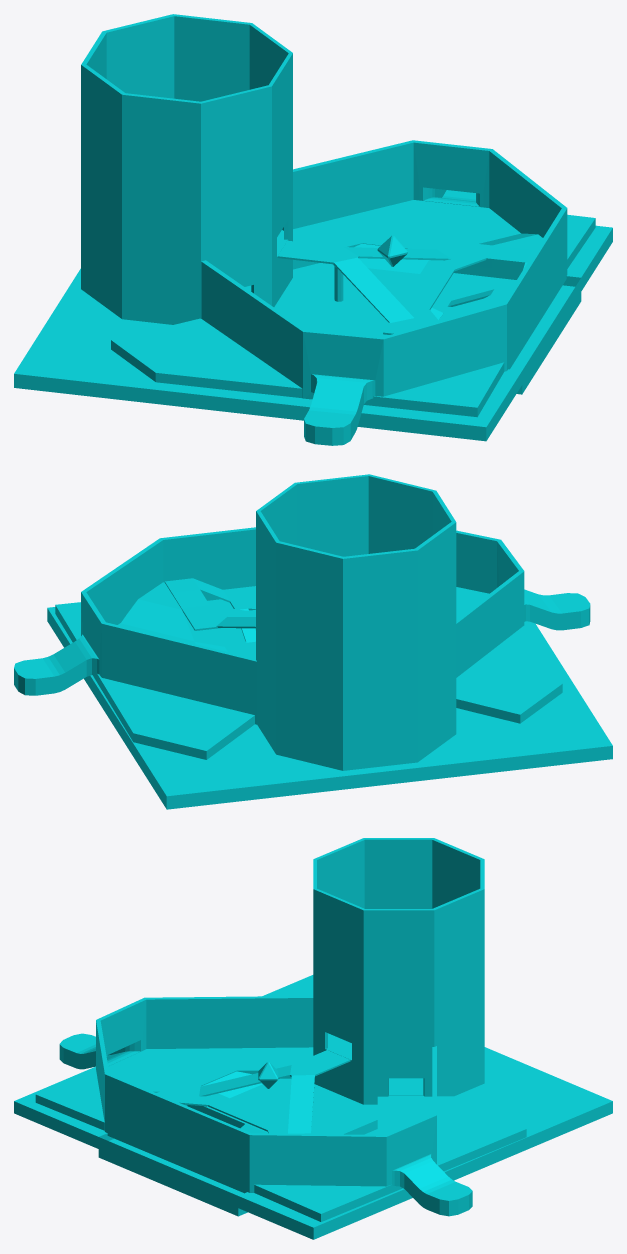
The model's file is StadiumWhiteBlock4.fbx.
3 renders of one model, top to bottom at view 1: azimuth 30°, elevation 25°; view 2: azimuth 150°, elevation 25°; view 3: azimuth 270°, elevation 25°, orthographic. The views are drawn at different scales.
Visible parts, largest first — view 1: Circle; view 2: Circle; view 3: Circle.
Part boxes in pixels (x1=…): Circle: x1=14, y1=14, x2=612, y2=445; Circle: x1=14, y1=474, x2=612, y2=809; Circle: x1=14, y1=838, x2=612, y2=1239.
Bounding box in the file's own units: 34959 × 13846 × 34959.
